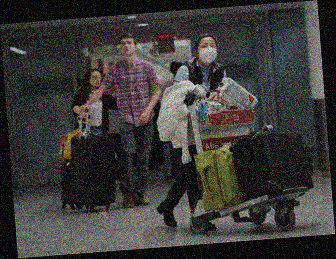with_mask: (198, 40, 219, 64)
without_mask: (120, 38, 136, 57), (88, 71, 104, 88)
